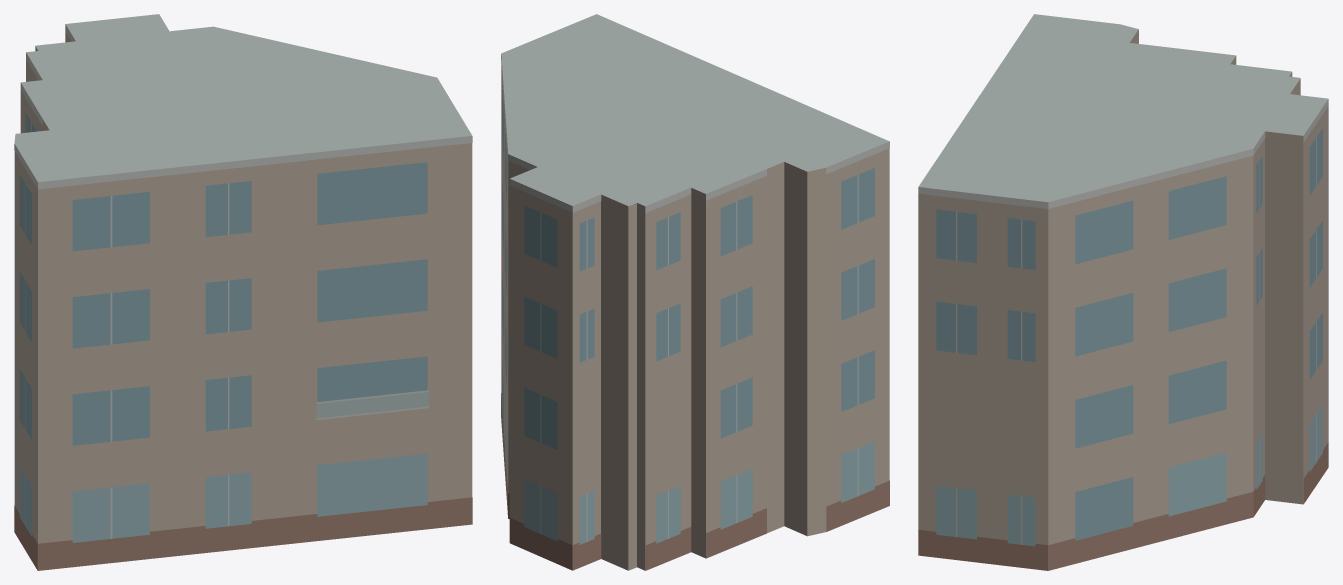
The model's file is survey-upis-32707053.glb.
The picture shows the model from 3 angles, left to right: view 1: azimuth 30°, elevation 25°; view 2: azimuth 150°, elevation 25°; view 3: azimuth 270°, elevation 25°; orthographic projection. The views are drawn at different scales.
Visible parts, largest first — view 1: survey-upis-32707053.tmp; view 2: survey-upis-32707053.tmp; view 3: survey-upis-32707053.tmp.
Part boxes in pixels (x1,y1,x2,y2): survey-upis-32707053.tmp: (14, 14, 472, 570); survey-upis-32707053.tmp: (501, 14, 889, 570); survey-upis-32707053.tmp: (918, 14, 1328, 570).
Size of the model in its own units: 14.58 by 13.3 by 13.43.
